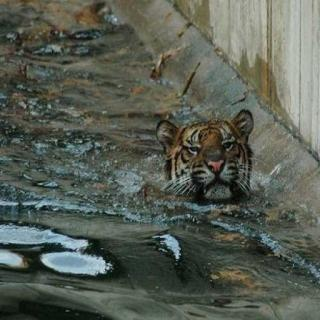Tiger: (150, 111, 265, 209)
